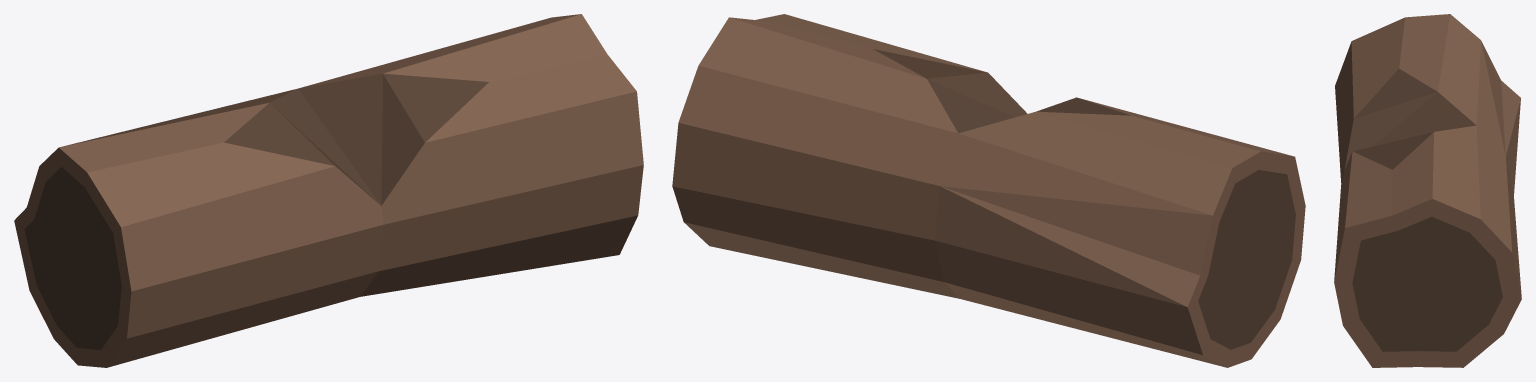
The model's file is Log_9_Light_Brown.fbx.
3 views of the same model, side by side, from view 1: azimuth 30°, elevation 25°; view 2: azimuth 150°, elevation 25°; view 3: azimuth 270°, elevation 25° (orthographic). The views are drawn at different scales.
Visible parts, largest first — view 1: Log_9_Light_Brown; view 2: Log_9_Light_Brown; view 3: Log_9_Light_Brown.
Part boxes in pixels (x1=…): Log_9_Light_Brown: x1=14, y1=14, x2=643, y2=367; Log_9_Light_Brown: x1=672, y1=14, x2=1305, y2=367; Log_9_Light_Brown: x1=1334, y1=14, x2=1521, y2=367.
Bounding box in the file's own units: 200 × 82.45 × 80.1.
